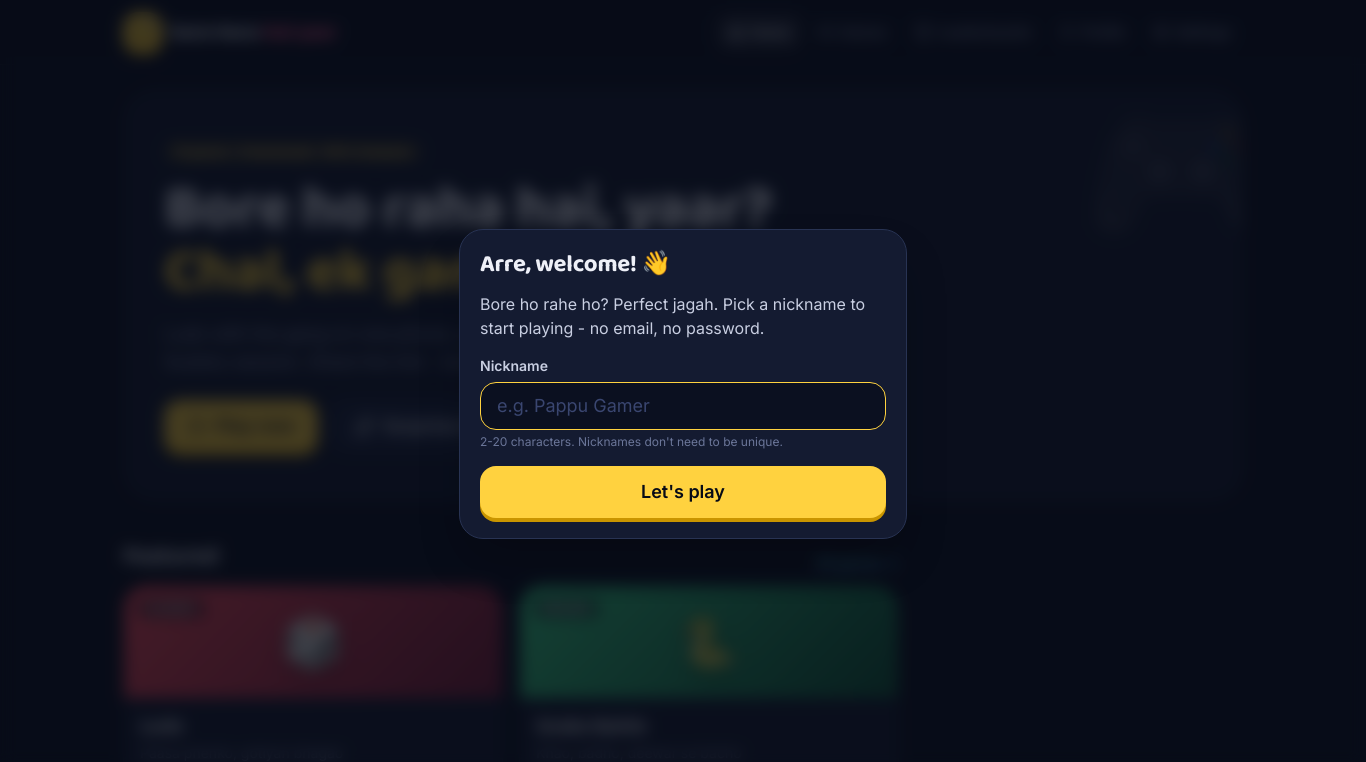
Test case: player onboarding › asks for a nickname on first visit and remembers it across reloads
Type "  Chintu  Gamer " into the field labelled "Nickname" at [683, 406], box [480,382,886,430]
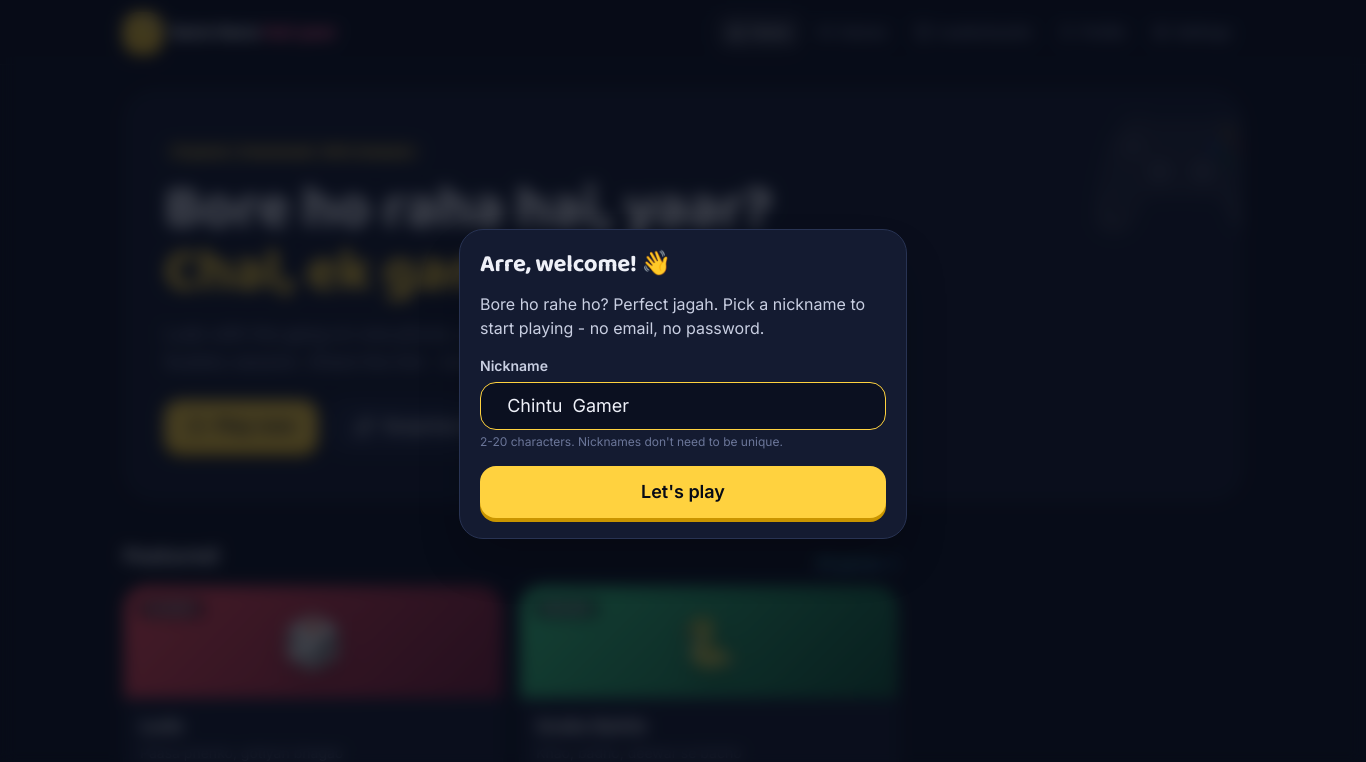
Click the button "Let's play" at [683, 492], box [480,466,886,518]
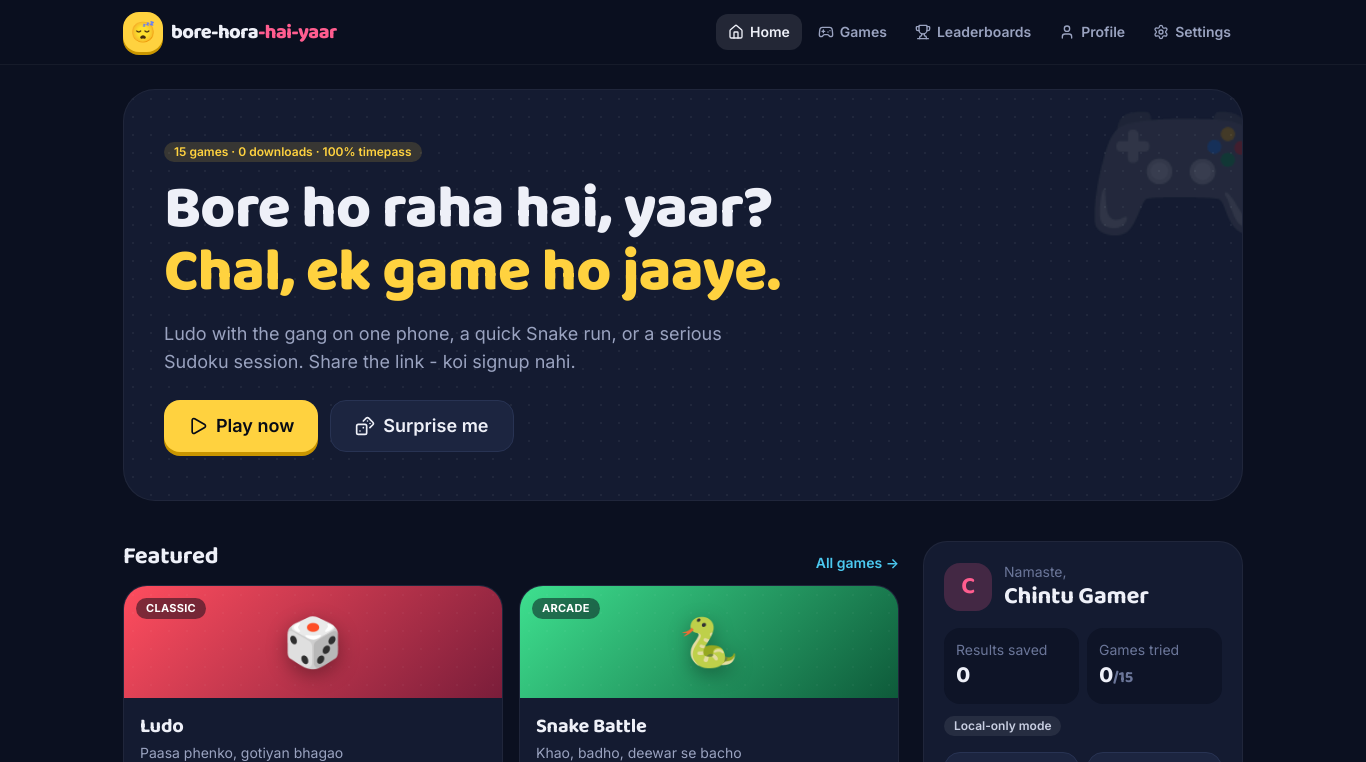
Expected: the dialog is gone
